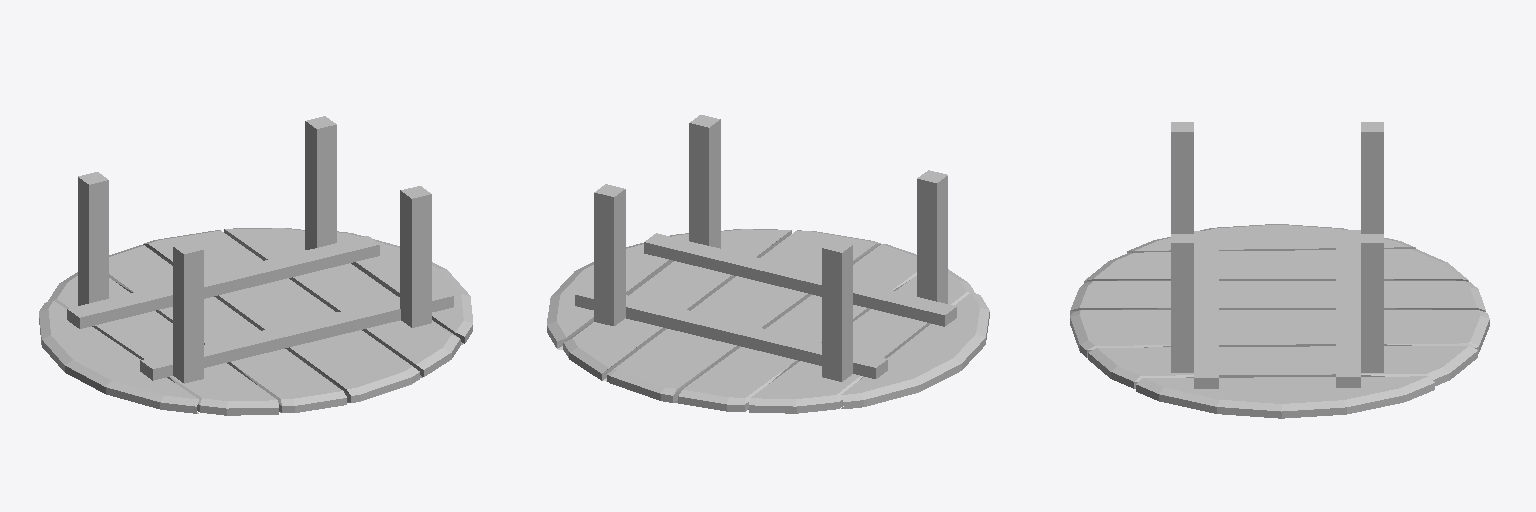
The model's file is tableFinal_7.obj.
3 renders of one model, left to right at view 1: azimuth 30°, elevation 25°; view 2: azimuth 150°, elevation 25°; view 3: azimuth 270°, elevation 25°, orthographic.
Parts seen in each view (by area): view 1: Cube; view 2: Cube; view 3: Cube.
Part boxes in pixels (x1,y1,x2,y2): Cube: (39,116,472,415); Cube: (547,115,989,413); Cube: (1070,122,1489,418).
Size of the model in its own units: 2.22 by 0.7929 by 2.09.